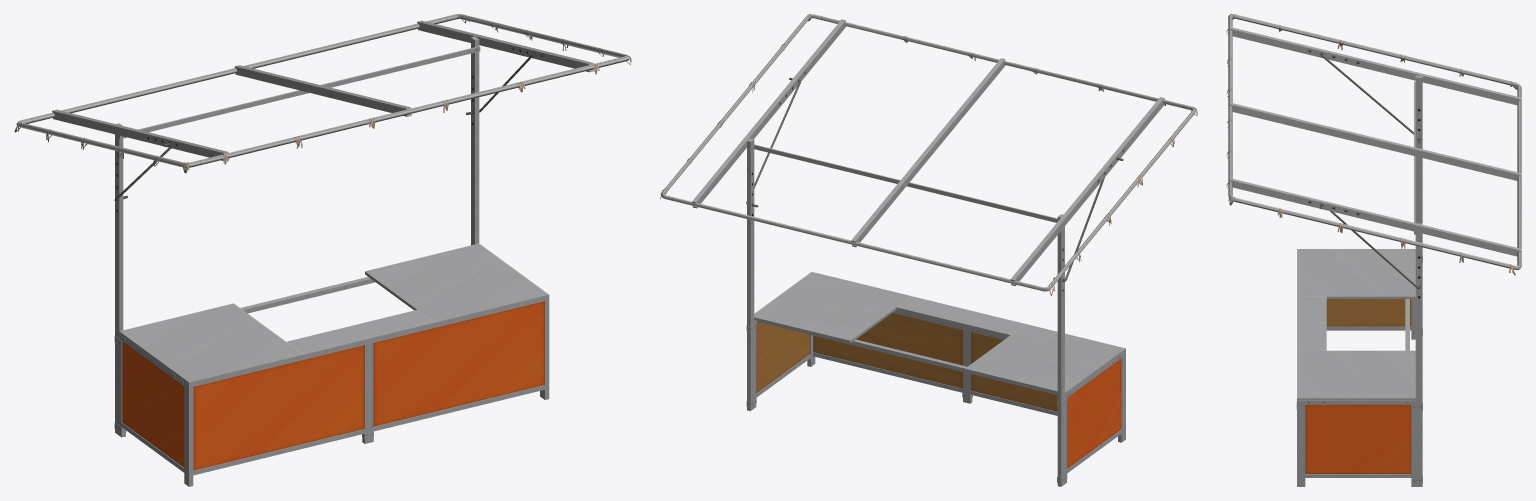
File: jsf_2P_s03_c01_t02.fbx
The picture shows the model from 3 angles, left to right: view 1: azimuth 30°, elevation 25°; view 2: azimuth 150°, elevation 25°; view 3: azimuth 270°, elevation 25°; orthographic projection. The views are drawn at different scales.
Parts seen in each view (by area): view 1: Base_s03_c01, Table_2P_s03_t02, Pillar2_s03, Rope_2P_s03; view 2: Base_s03_c01, Pillar2_s03, Table_2P_s03_t02; view 3: Pillar2_s03, Table_2P_s03_t02, Base_s03_c01, Rope_2P_s03.
Part boxes in pixels (box(x1,y1,x2,y2)): Base_s03_c01: box(114, 294, 549, 486); Table_2P_s03_t02: box(119, 243, 547, 385); Pillar2_s03: box(16, 14, 629, 435); Rope_2P_s03: box(14, 14, 631, 173); Base_s03_c01: box(746, 271, 1125, 483); Pillar2_s03: box(660, 14, 1196, 486); Table_2P_s03_t02: box(754, 272, 1125, 397); Pillar2_s03: box(1228, 14, 1521, 486); Table_2P_s03_t02: box(1298, 249, 1415, 404); Base_s03_c01: box(1296, 249, 1422, 486); Rope_2P_s03: box(1226, 14, 1517, 275).
Bounding box in the file's own units: 316 × 244 × 211.
